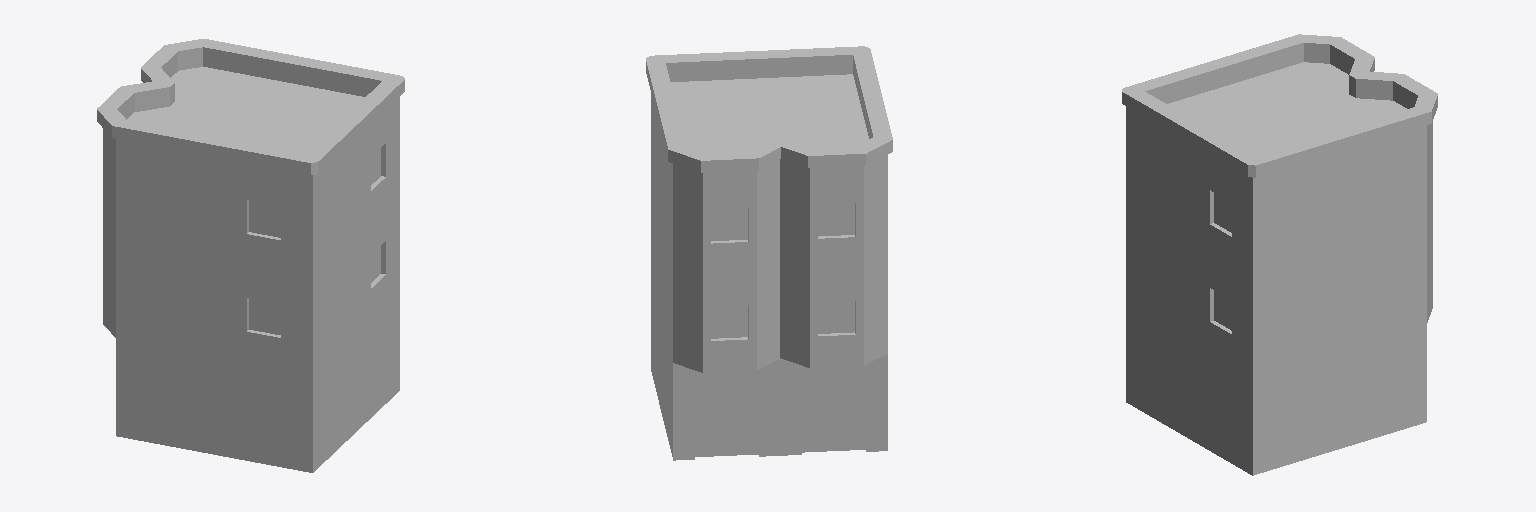
The model's file is variant_5.obj.
3 views of the same model, side by side, from view 1: azimuth 30°, elevation 25°; view 2: azimuth 150°, elevation 25°; view 3: azimuth 270°, elevation 25° (orthographic).
Parts seen in each view (by area): view 1: small_buildingA; view 2: small_buildingA; view 3: small_buildingA.
Boxes of the visible parts, x1=… form: small_buildingA: x1=97, y1=39, x2=404, y2=472; small_buildingA: x1=646, y1=46, x2=892, y2=460; small_buildingA: x1=1122, y1=34, x2=1437, y2=475.
Size of the model in its own units: 1.15 by 1.28 by 1.18.